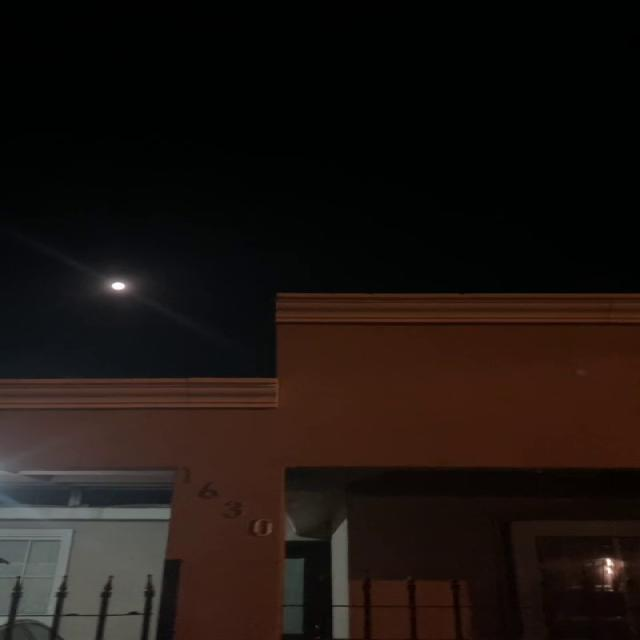moon: (89, 272, 139, 305)
